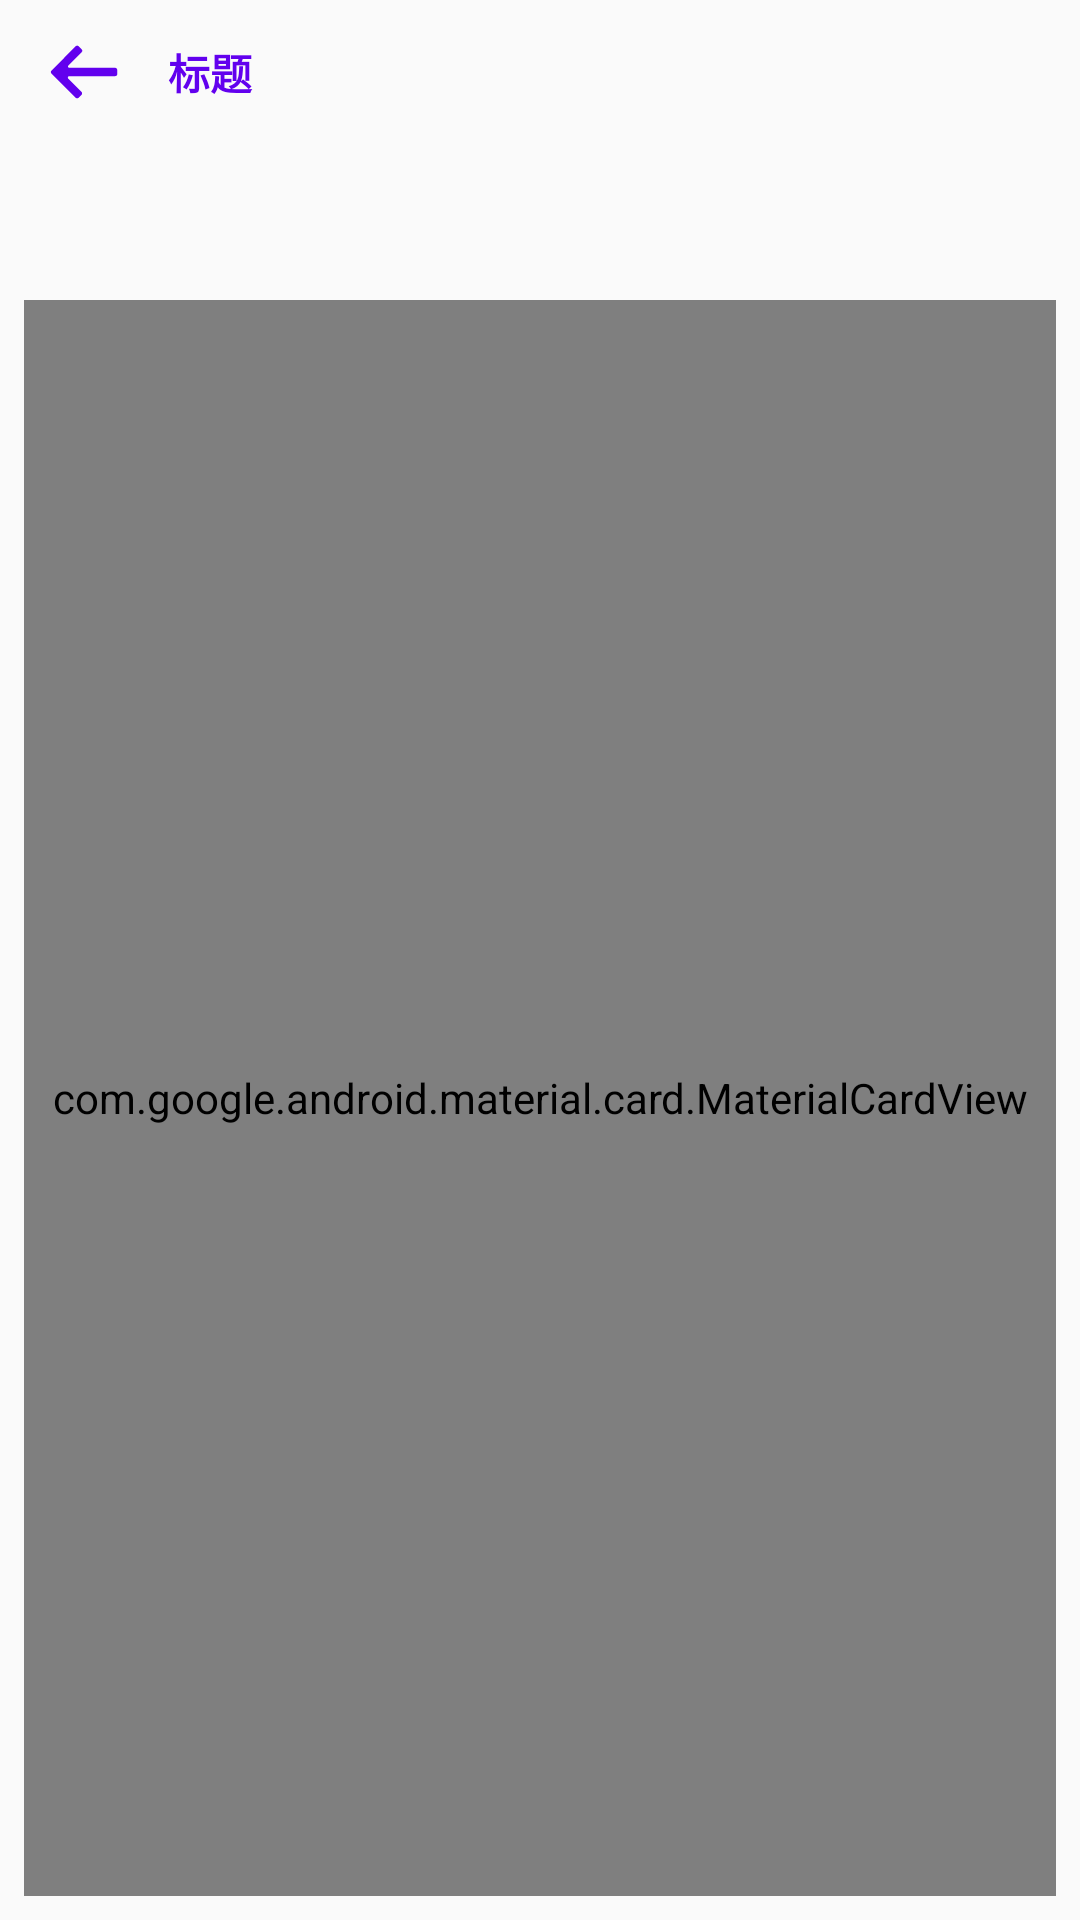

Icon click points for this 1080*1920 phone screenshot, format [x,y]:
back: [84,72]
